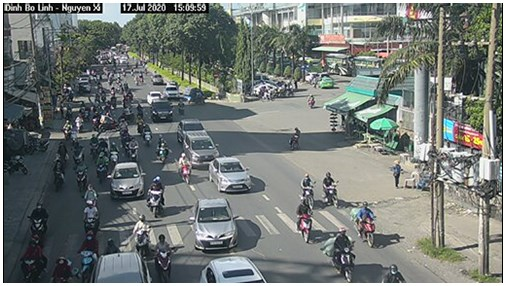di_bo: (388, 158, 405, 188)
xe_hoi: (195, 196, 238, 254), (198, 256, 271, 284), (94, 252, 152, 283), (208, 156, 254, 195), (179, 128, 221, 169), (108, 160, 145, 202), (176, 117, 208, 145), (151, 99, 173, 123), (163, 84, 180, 101)
xe_may: (318, 223, 363, 282), (352, 197, 380, 249), (76, 224, 98, 283), (19, 234, 45, 283), (25, 200, 50, 245), (154, 231, 175, 283), (294, 195, 315, 244), (321, 169, 344, 213), (132, 213, 152, 259), (80, 198, 103, 235), (299, 170, 319, 212), (48, 251, 75, 282), (146, 175, 164, 220), (375, 257, 405, 283), (92, 149, 110, 184), (82, 180, 102, 208), (285, 124, 305, 151), (74, 157, 89, 191), (155, 131, 170, 165), (52, 157, 65, 191), (126, 134, 141, 162), (71, 143, 85, 165), (61, 119, 73, 143), (116, 117, 128, 140)
